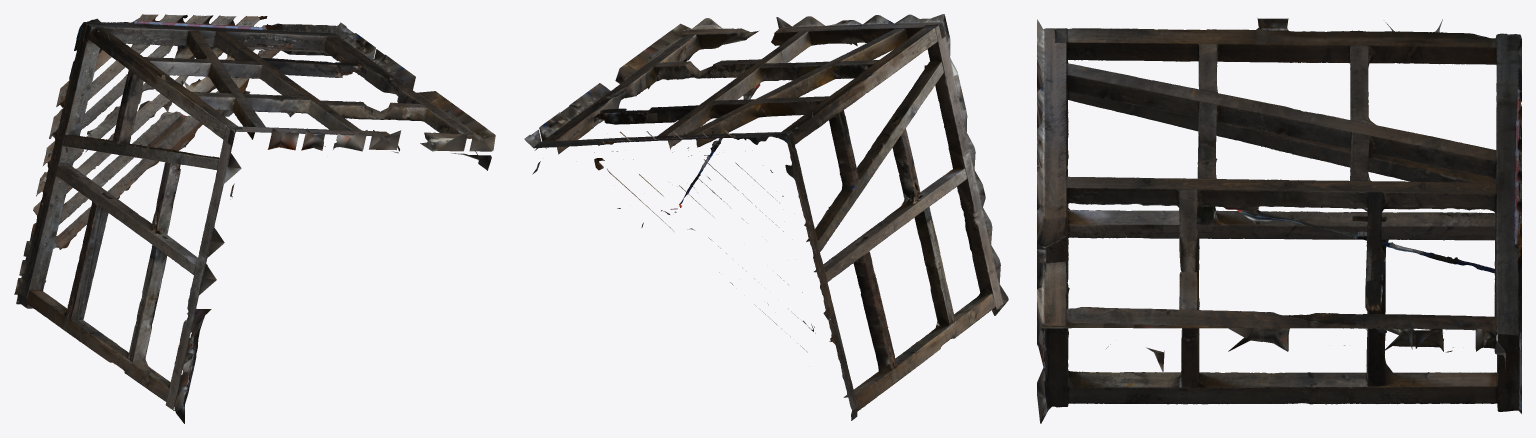
Rendered from Full-Structure_3DScanMunich_Rhino500k.glb.
3 renders of one model, left to right at view 1: azimuth 30°, elevation 25°; view 2: azimuth 150°, elevation 25°; view 3: azimuth 270°, elevation 25°, orthographic. The views are drawn at different scales.
Visible parts, largest first — view 1: Mesh_0_Part_0; view 2: Mesh_0_Part_0; view 3: Mesh_0_Part_0.
Boxes of the visible parts, x1,y1,x2,y2 form: Mesh_0_Part_0: (14,14,495,423); Mesh_0_Part_0: (524,14,1008,420); Mesh_0_Part_0: (1037,18,1521,423).
Size of the model in its own units: 30.45 by 25.49 by 25.16.
1 material, 1 textured.
